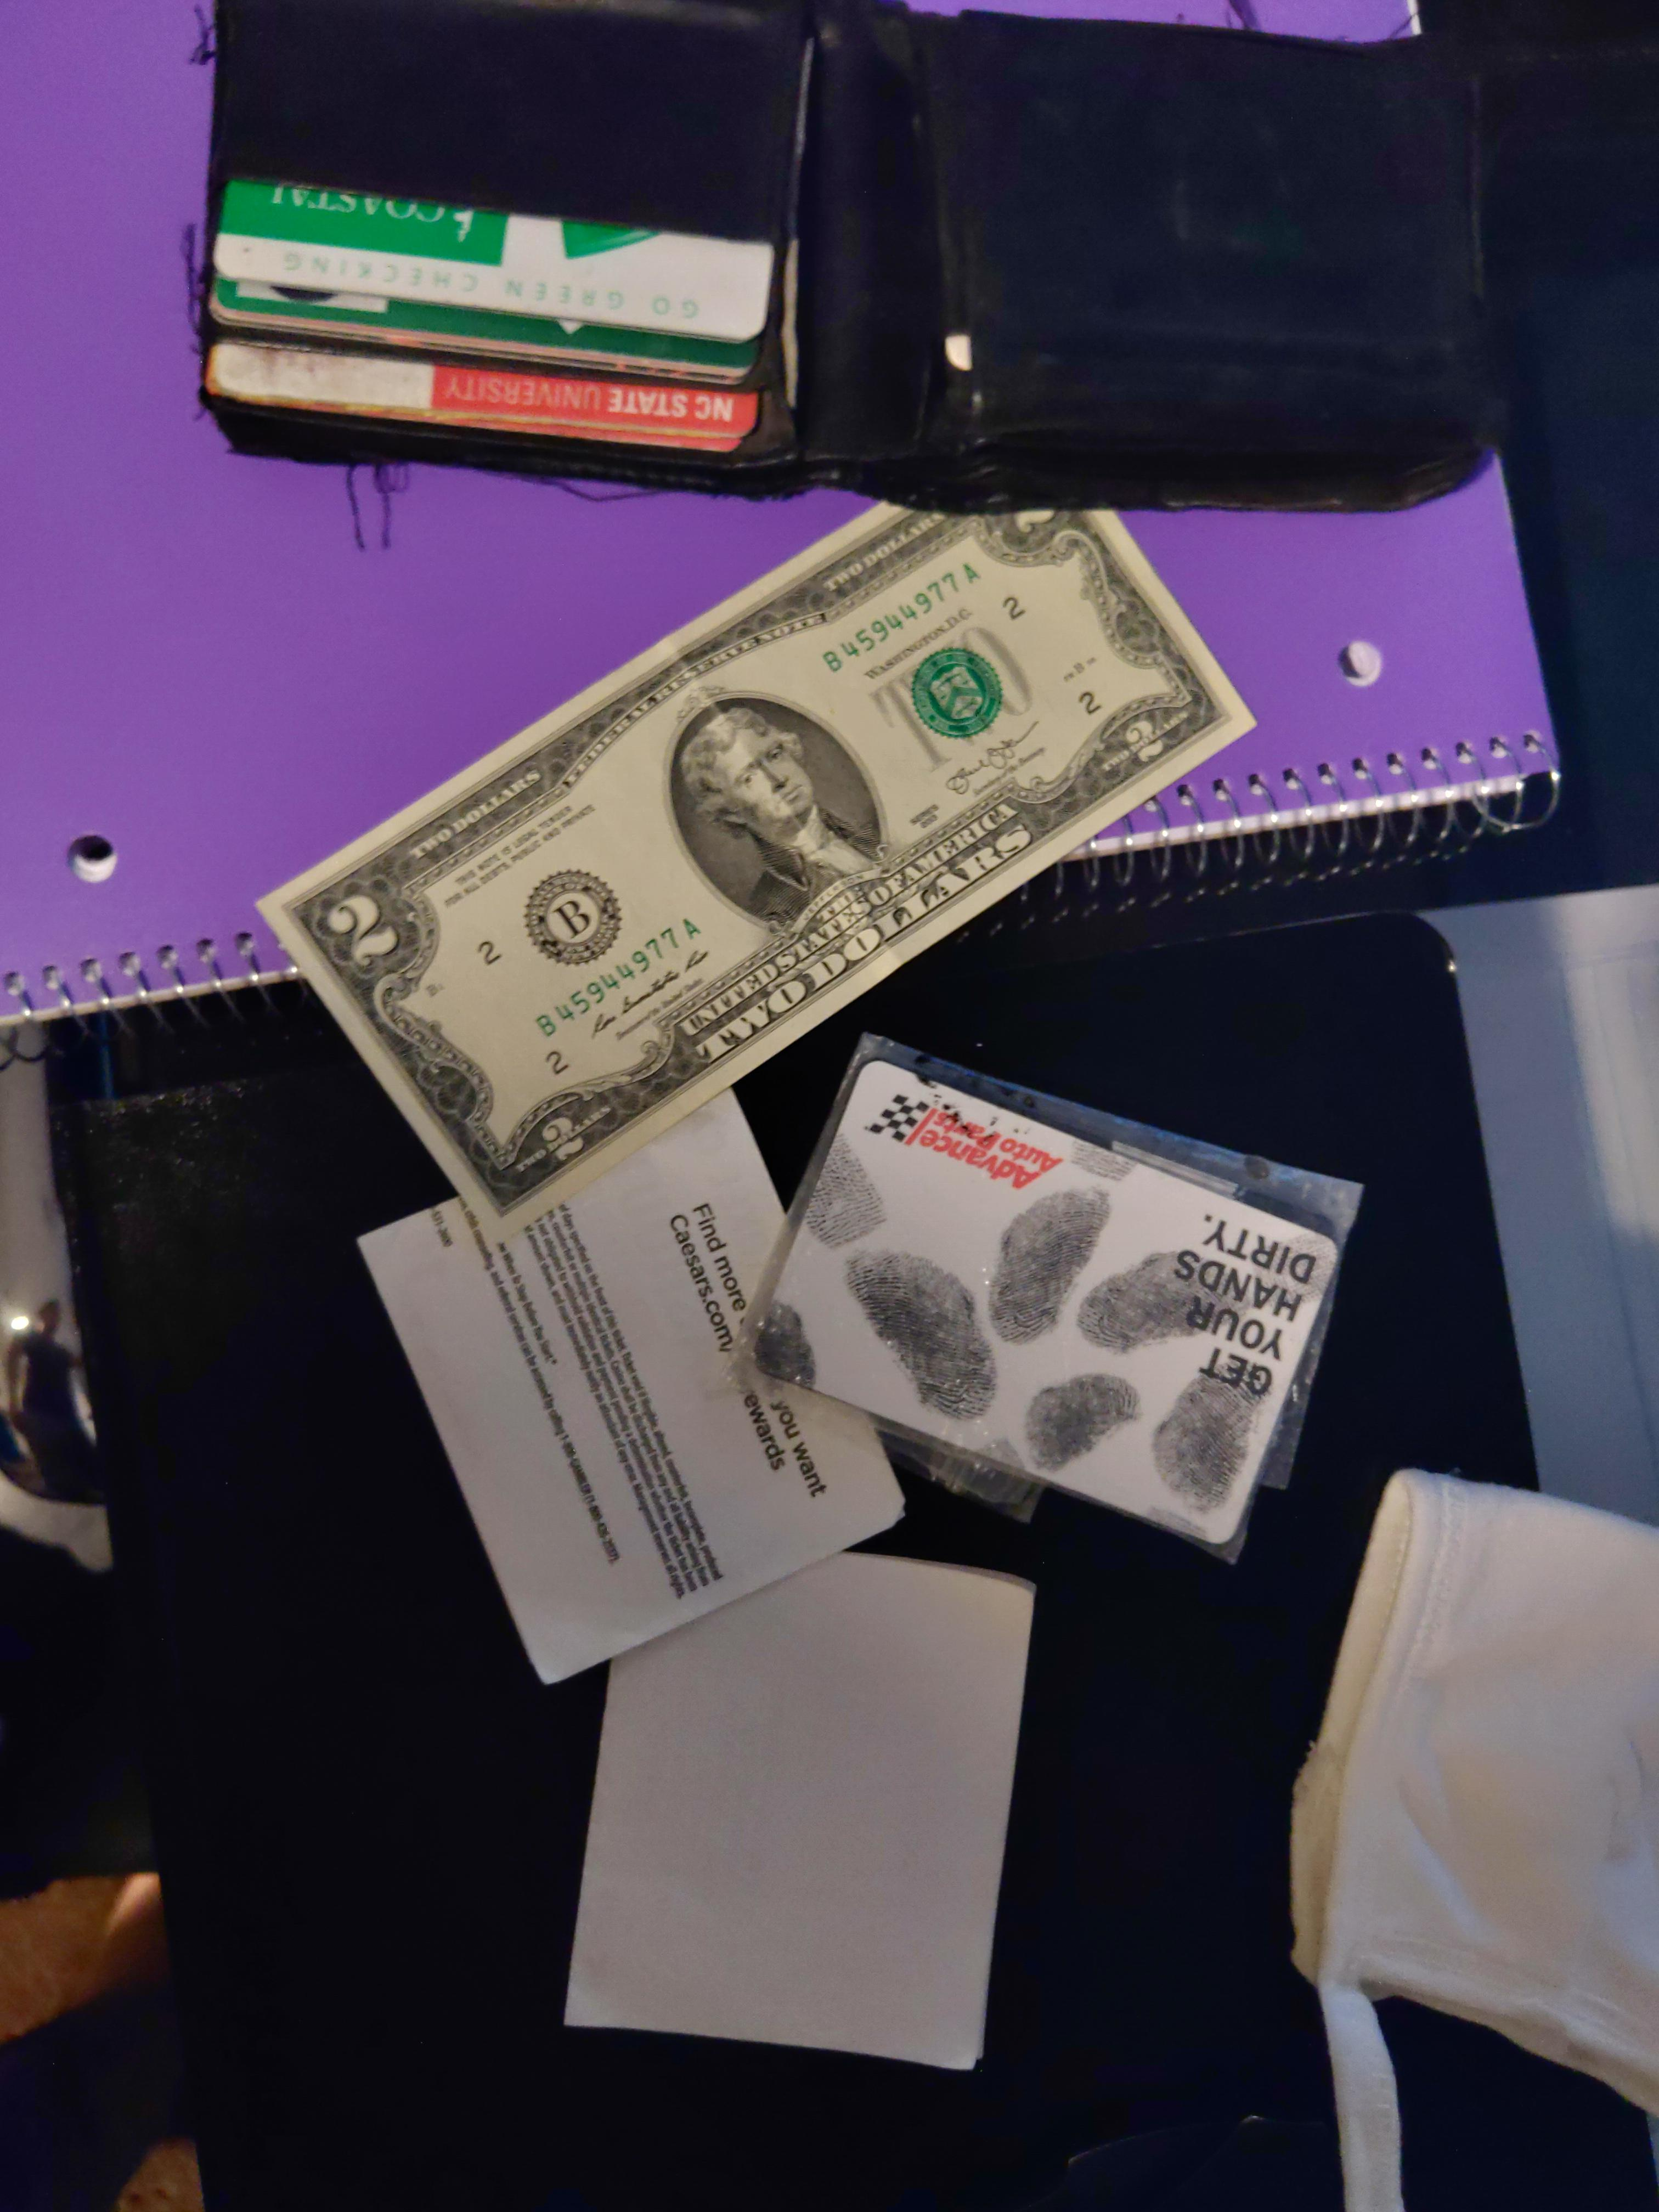TwoBill: (254, 496, 1262, 1245)
